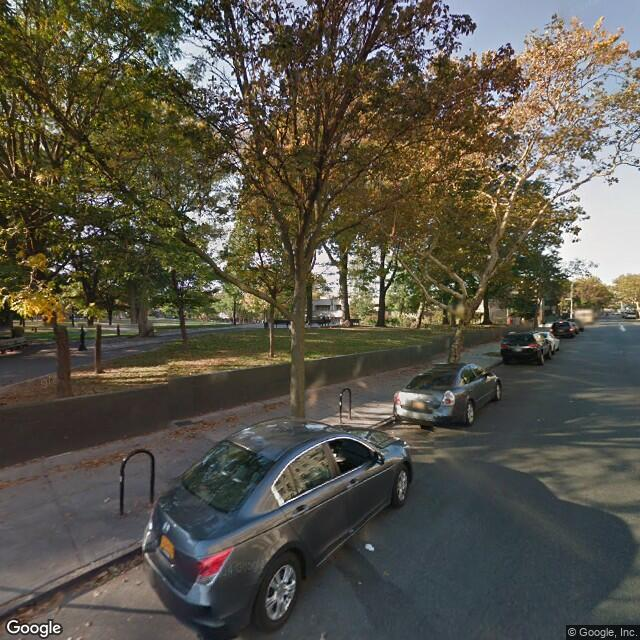litter: (349, 534, 379, 551), (103, 489, 121, 511)
